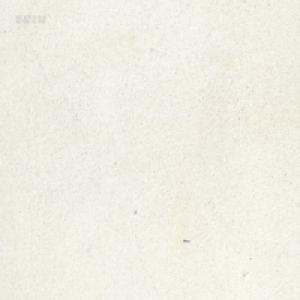Nail: (183, 237, 190, 243)
